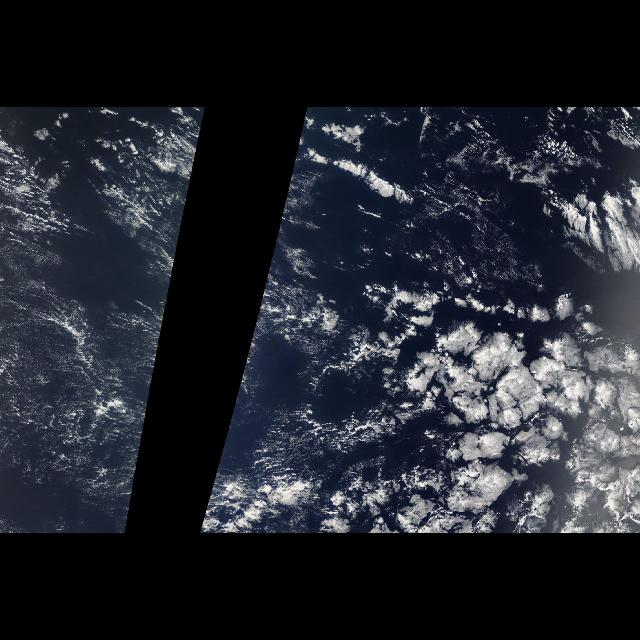Flower: (350, 276, 640, 532)
Sugar: (0, 114, 172, 520)
